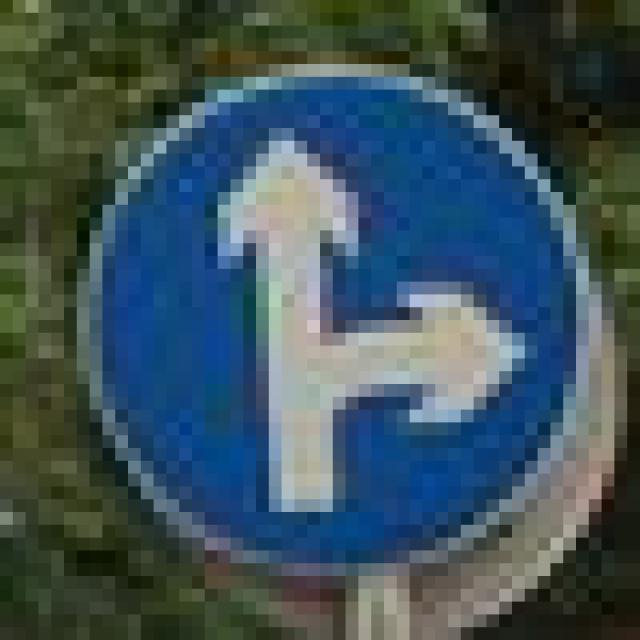compulsory_ahead_or_left: (51, 26, 576, 588)
